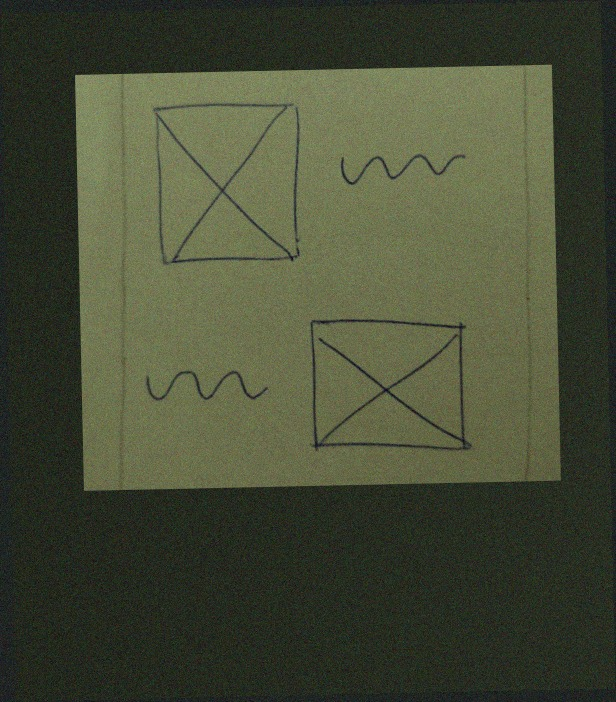image: (148, 97, 305, 268), (303, 309, 476, 464)
text: (332, 136, 467, 195), (137, 357, 271, 416)
